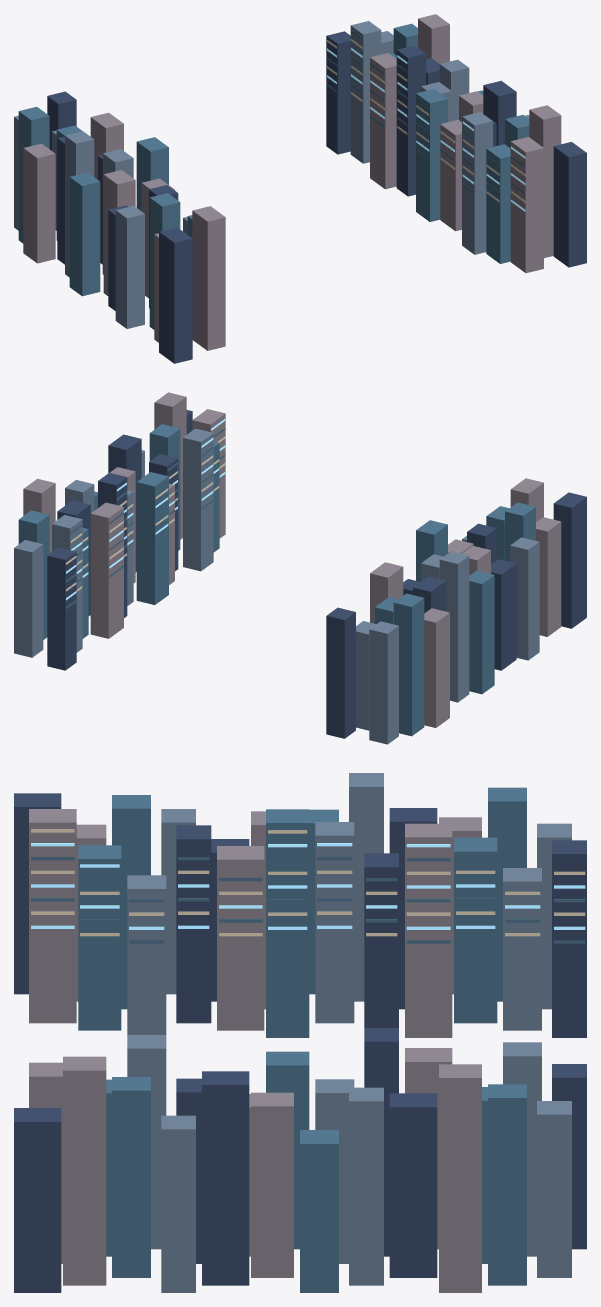
Rendered from city.glb.
The picture shows the model from 3 angles, top to bottom: view 1: azimuth 30°, elevation 25°; view 2: azimuth 150°, elevation 25°; view 3: azimuth 270°, elevation 25°; orthographic projection. The views are drawn at different scales.
Visible parts, largest first — view 1: city; view 2: city; view 3: city.
Boxes of the visible parts, left/top/right/bottom form: city: left=14, top=14, right=586, bottom=363; city: left=14, top=392, right=586, bottom=744; city: left=14, top=773, right=586, bottom=1292.
Size of the model in its own units: 97.5 by 31.3 by 75.62.
